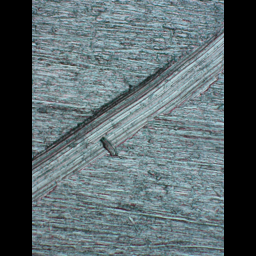d: (32, 22, 223, 207)
